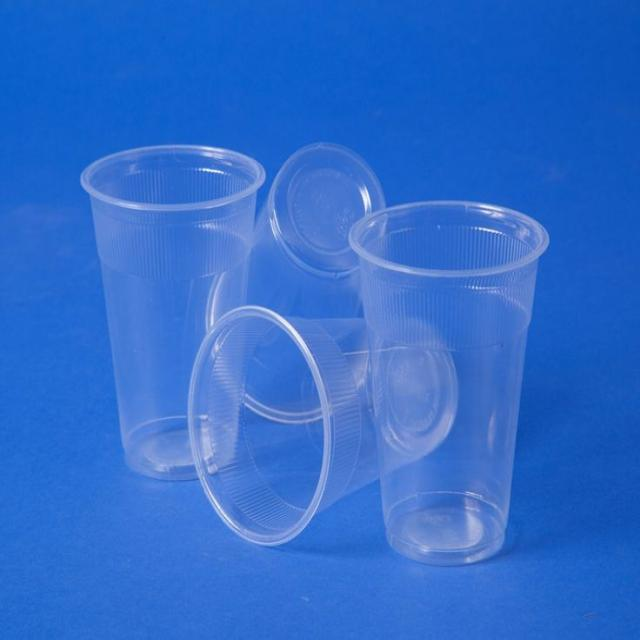GelasPlastik: (347, 198, 550, 566), (189, 293, 465, 555), (78, 143, 266, 481), (203, 137, 390, 424)
